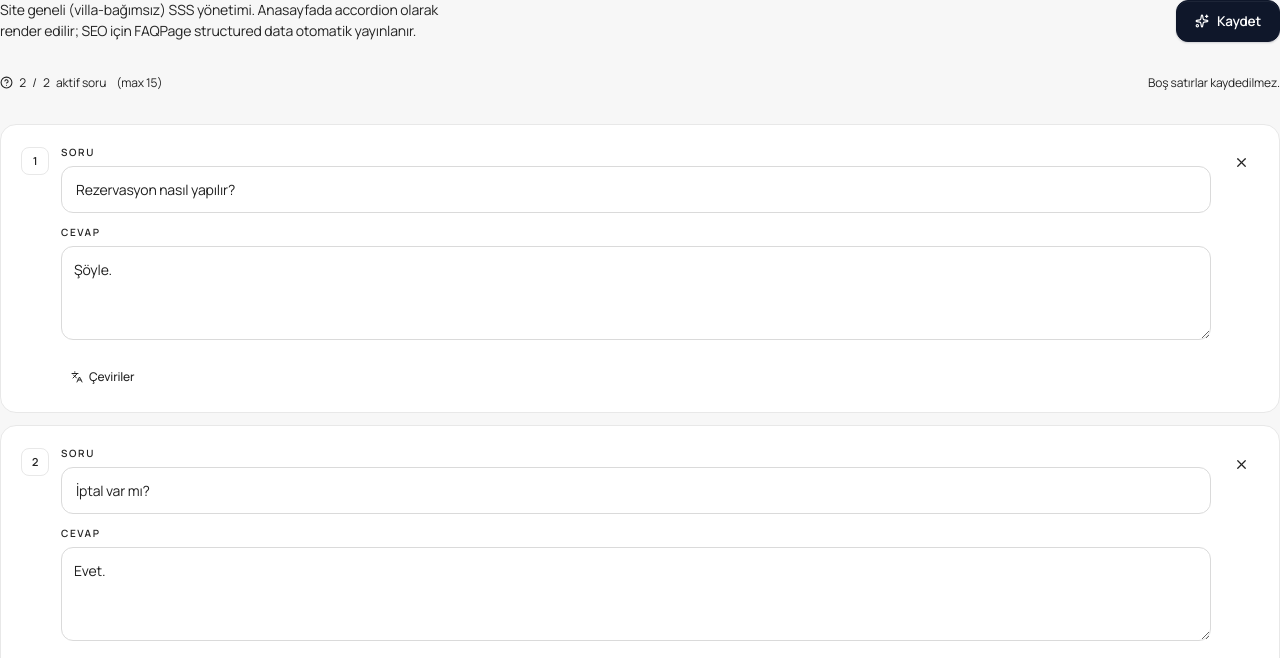
Test: /maki-admin/faqs — çoklu dil › 29) EN/DE alanları varsayılan KAPALI, 'Çeviriler' ile açılır
Expected: the 1st field showing "Rezervasyon nasıl yapılır?" is shown, [61,166,1211,213]
Click the button "Çeviriler": (103, 377) [61,362,144,392]
(page scrolled)
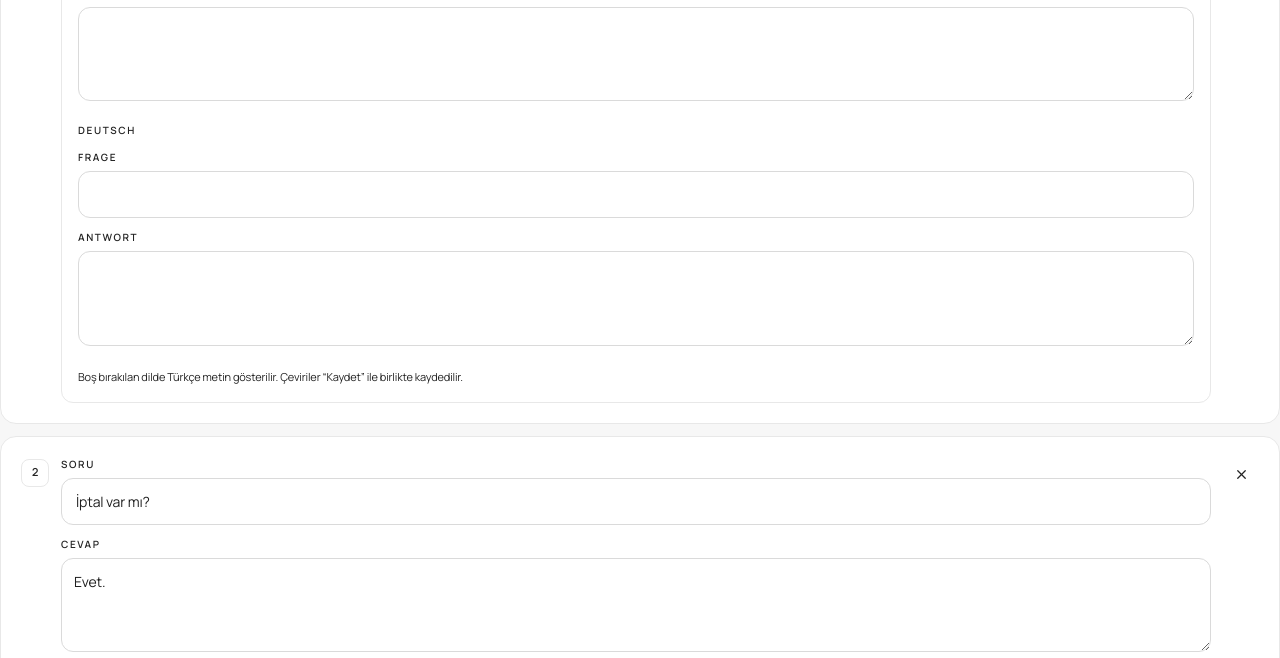
Expected: the text box named "English Answer" is shown, [78,7,1194,101]
Expected: the field named "Deutsch Frage" is shown, [78,171,1194,218]
Expected: the text box named "Deutsch Antwort" is shown, [78,251,1194,346]
